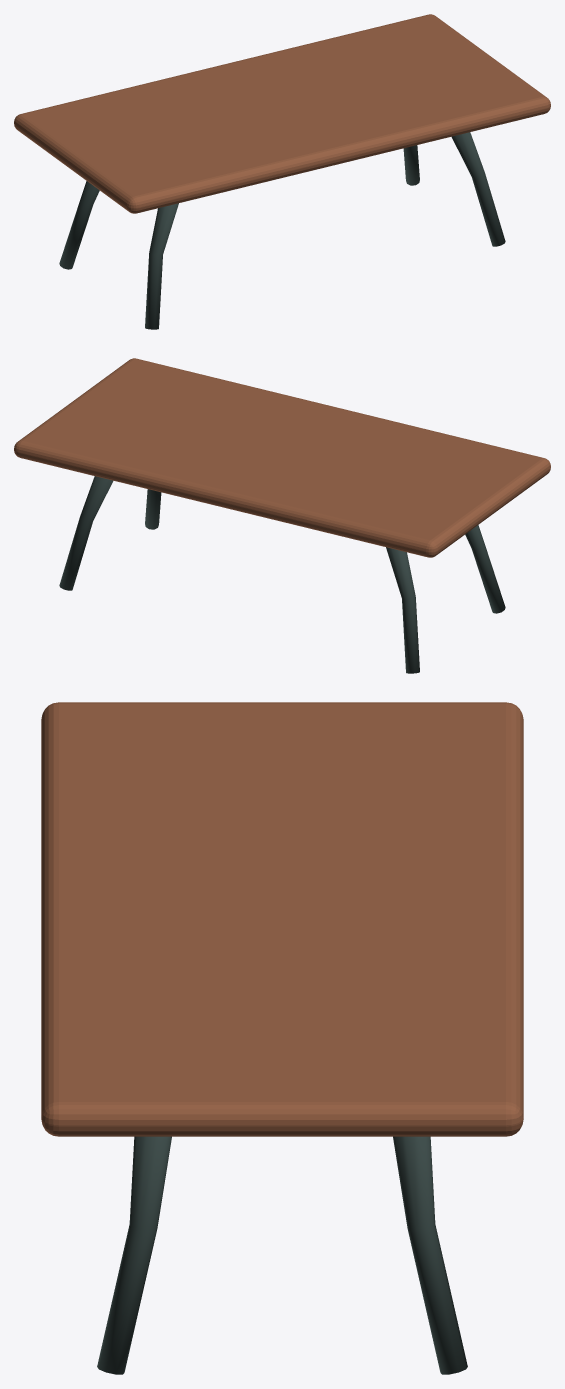
File: meeting_table.glb
3 renders of one model, top to bottom at view 1: azimuth 30°, elevation 25°; view 2: azimuth 150°, elevation 25°; view 3: azimuth 270°, elevation 25°, orthographic. The views are drawn at different scales.
Visible parts, largest first — view 1: Rounded ash conference top, Tapered table support, Tapered table support.002, Tapered table support.001, Tapered table support.003; view 2: Rounded ash conference top, Tapered table support.001, Tapered table support.003, Tapered table support, Tapered table support.002; view 3: Rounded ash conference top, Tapered table support.002, Tapered table support.003.
Boxes of the visible parts, <box> form: Rounded ash conference top: <box>14,14,550,213</box>; Tapered table support: <box>145,203,178,329</box>; Tapered table support.002: <box>451,132,505,246</box>; Tapered table support.001: <box>59,181,99,269</box>; Tapered table support.003: <box>403,145,419,185</box>; Rounded ash conference top: <box>14,358,550,557</box>; Tapered table support.001: <box>386,547,419,673</box>; Tapered table support.003: <box>59,476,113,590</box>; Tapered table support: <box>465,525,505,613</box>; Tapered table support.002: <box>145,489,161,529</box>; Rounded ash conference top: <box>41,702,523,1136</box>; Tapered table support.002: <box>97,1136,171,1374</box>; Tapered table support.003: <box>393,1136,467,1374</box>.
Size of the model in its own units: 2.39 by 0.815 by 1.18.
